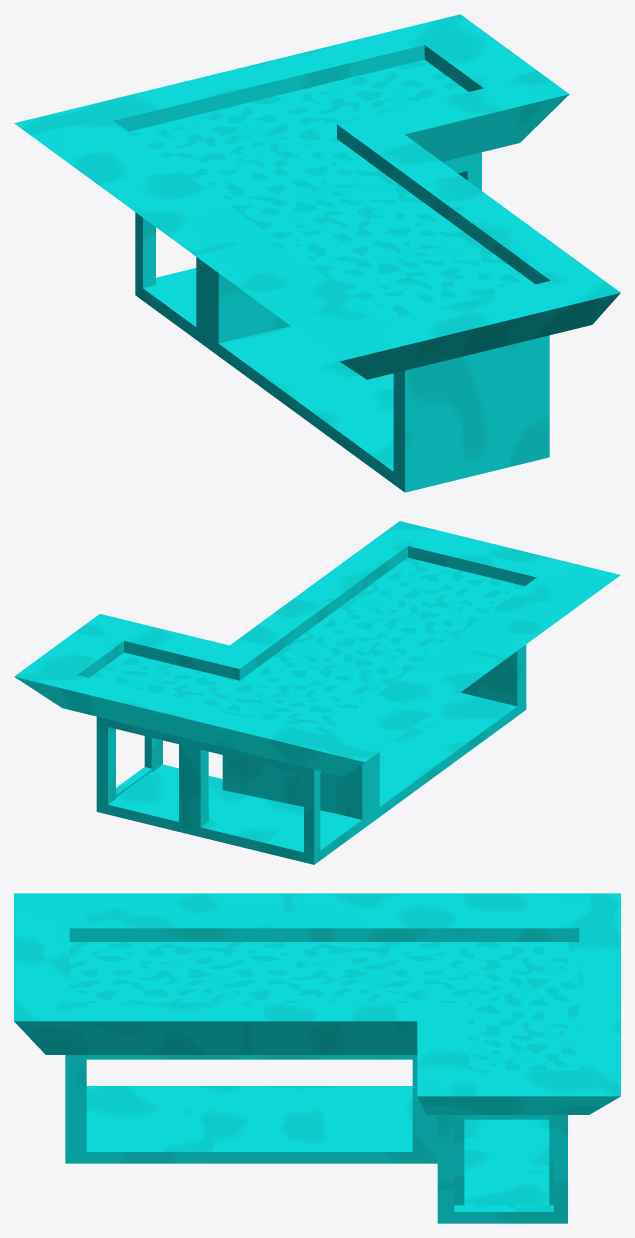
The model's file is SM_Big_Interior_Building_01.fbx.
3 renders of one model, top to bottom at view 1: azimuth 30°, elevation 25°; view 2: azimuth 150°, elevation 25°; view 3: azimuth 270°, elevation 25°, orthographic. The views are drawn at different scales.
Parts seen in each view (by area): view 1: SM_Big_Interior_Building_01; view 2: SM_Big_Interior_Building_01; view 3: SM_Big_Interior_Building_01.
Boxes of the visible parts, x1=… form: SM_Big_Interior_Building_01: x1=14, y1=14, x2=620, y2=492; SM_Big_Interior_Building_01: x1=14, y1=521, x2=620, y2=864; SM_Big_Interior_Building_01: x1=14, y1=893, x2=620, y2=1223.
Size of the model in its own units: 41.81 by 15.57 by 52.79.
1 material, 1 textured.
